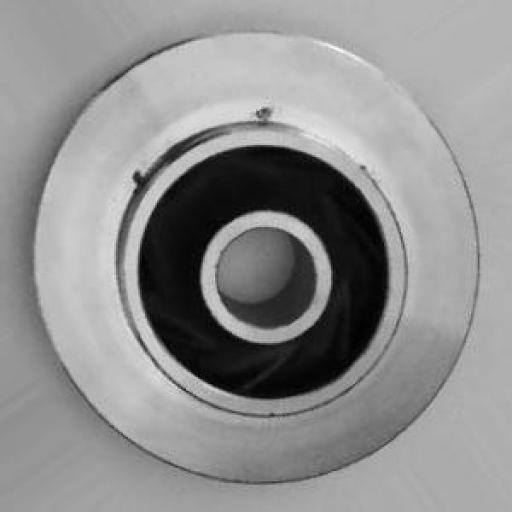defect: (93, 94, 317, 199)
